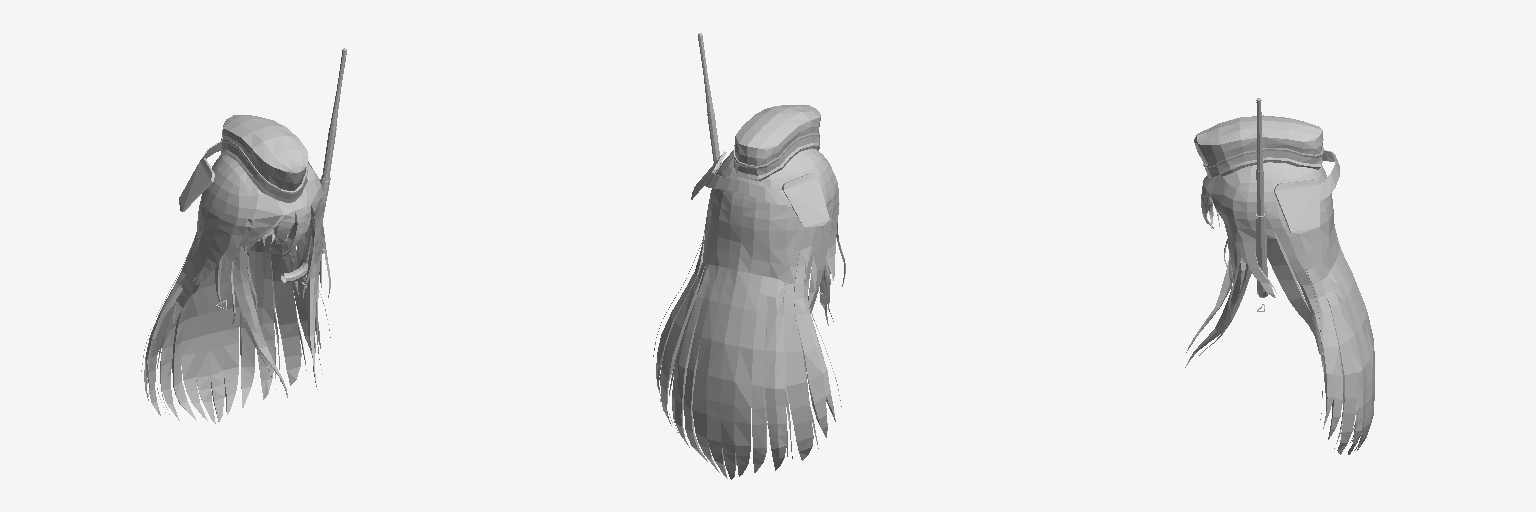
Rendered from 511Hair.obj.
3 renders of one model, left to right at view 1: azimuth 30°, elevation 25°; view 2: azimuth 150°, elevation 25°; view 3: azimuth 270°, elevation 25°, orthographic.
Parts seen in each view (by area): view 1: 髪＿２_ぽんぷ長式U-511__Ver.2フル装備.029, 帽子_ぽんぷ長式U-511__Ver.2フル装備.016, 頭艤装_ぽんぷ長式U-511__Ver.2フル装備.017, 潜望鏡_ぽんぷ長式U-511__Ver.2フル装備.025; view 2: 髪＿２_ぽんぷ長式U-511__Ver.2フル装備.029, 帽子_ぽんぷ長式U-511__Ver.2フル装備.016, 頭艤装_ぽんぷ長式U-511__Ver.2フル装備.017; view 3: 髪＿２_ぽんぷ長式U-511__Ver.2フル装備.029, 帽子_ぽんぷ長式U-511__Ver.2フル装備.016, 頭艤装_ぽんぷ長式U-511__Ver.2フル装備.017, 潜望鏡_ぽんぷ長式U-511__Ver.2フル装備.025.
Part boxes in pixels (x1,y1,x2,y2): 髪＿２_ぽんぷ長式U-511__Ver.2フル装備.029: (144, 154, 330, 423); 帽子_ぽんぷ長式U-511__Ver.2フル装備.016: (221, 115, 308, 202); 頭艤装_ぽんぷ長式U-511__Ver.2フル装備.017: (179, 141, 312, 211); 潜望鏡_ぽんぷ長式U-511__Ver.2フル装備.025: (281, 48, 346, 282); 髪＿２_ぽんぷ長式U-511__Ver.2フル装備.029: (656, 148, 845, 479); 帽子_ぽんぷ長式U-511__Ver.2フル装備.016: (733, 105, 820, 181); 頭艤装_ぽんぷ長式U-511__Ver.2フル装備.017: (691, 151, 829, 227); 髪＿２_ぽんぷ長式U-511__Ver.2フル装備.029: (1185, 162, 1374, 454); 帽子_ぽんぷ長式U-511__Ver.2フル装備.016: (1194, 115, 1323, 177); 頭艤装_ぽんぷ長式U-511__Ver.2フル装備.017: (1274, 150, 1339, 234); 潜望鏡_ぽんぷ長式U-511__Ver.2フル装備.025: (1256, 98, 1267, 297).
Bounding box in the file's own units: 0.4036 × 0.7967 × 0.3512.